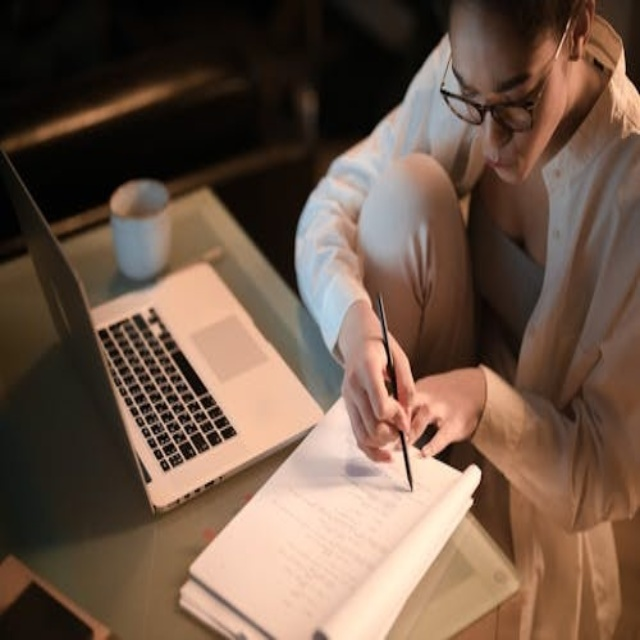Gafas: (442, 14, 571, 132)
Sin_guantes: (339, 313, 418, 459), (405, 360, 488, 459)
Sin_mascara: (481, 148, 530, 194)
